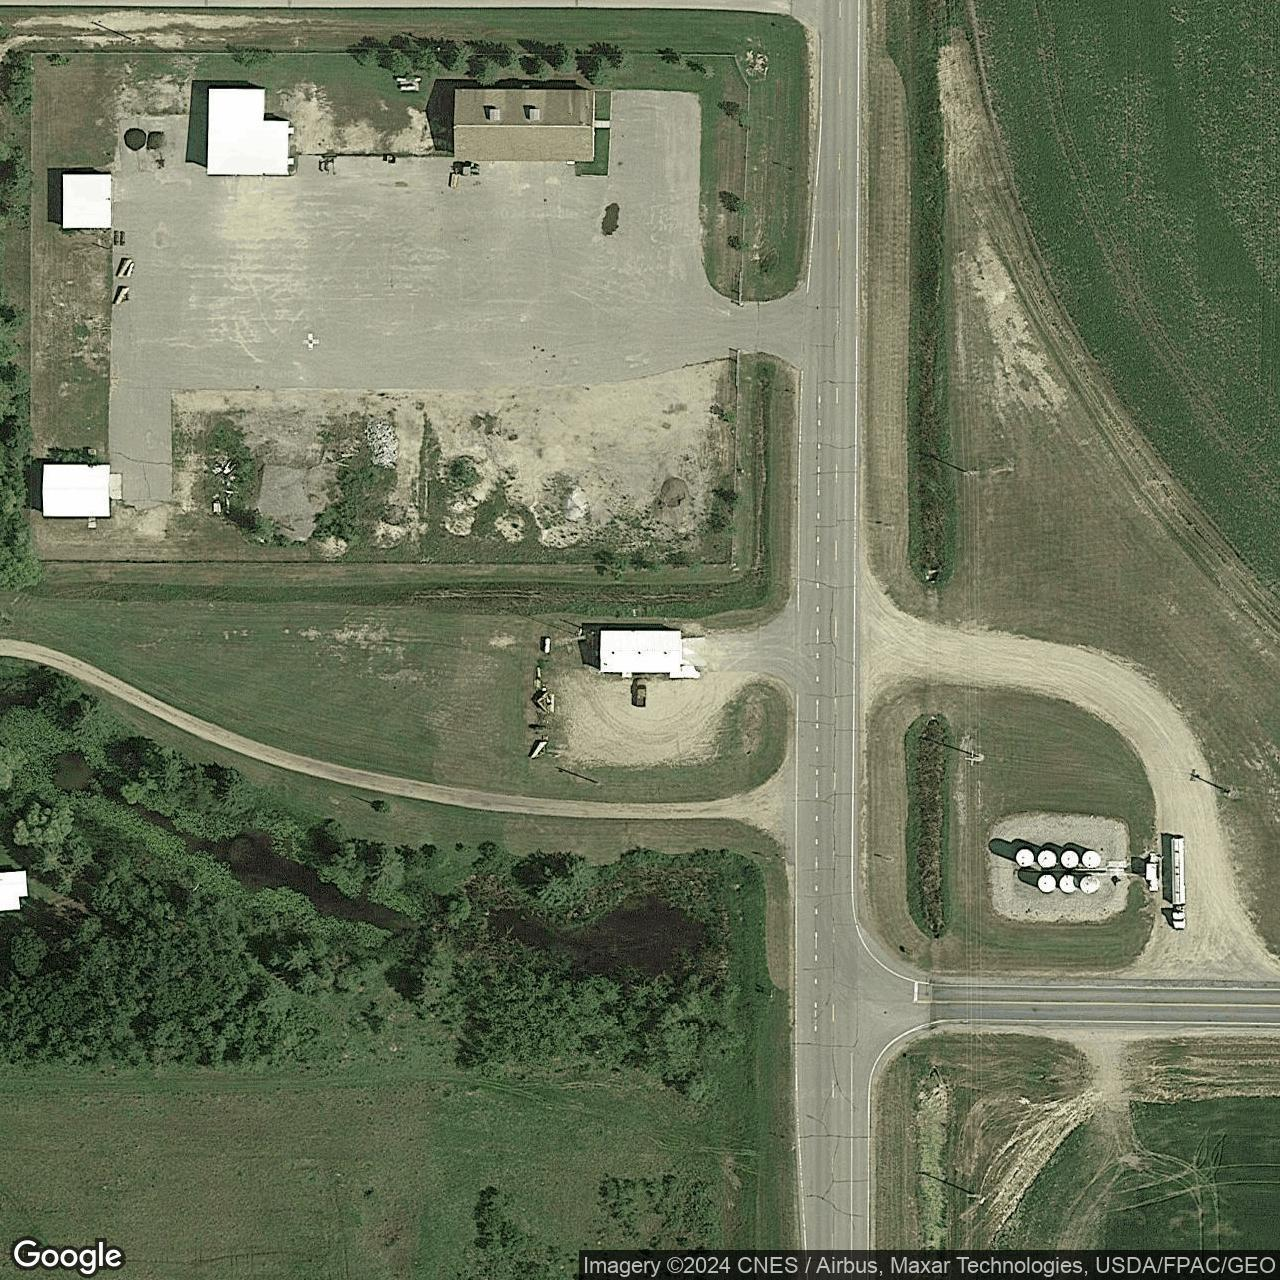House: (452, 88, 595, 163), (600, 632, 701, 681), (0, 870, 28, 912)
Other: (206, 87, 290, 177), (43, 463, 111, 518), (62, 173, 113, 229)
Propane: (394, 75, 422, 84), (540, 636, 551, 654), (397, 84, 420, 93)
